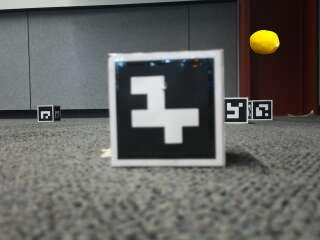lemon: (251, 30, 280, 54)
